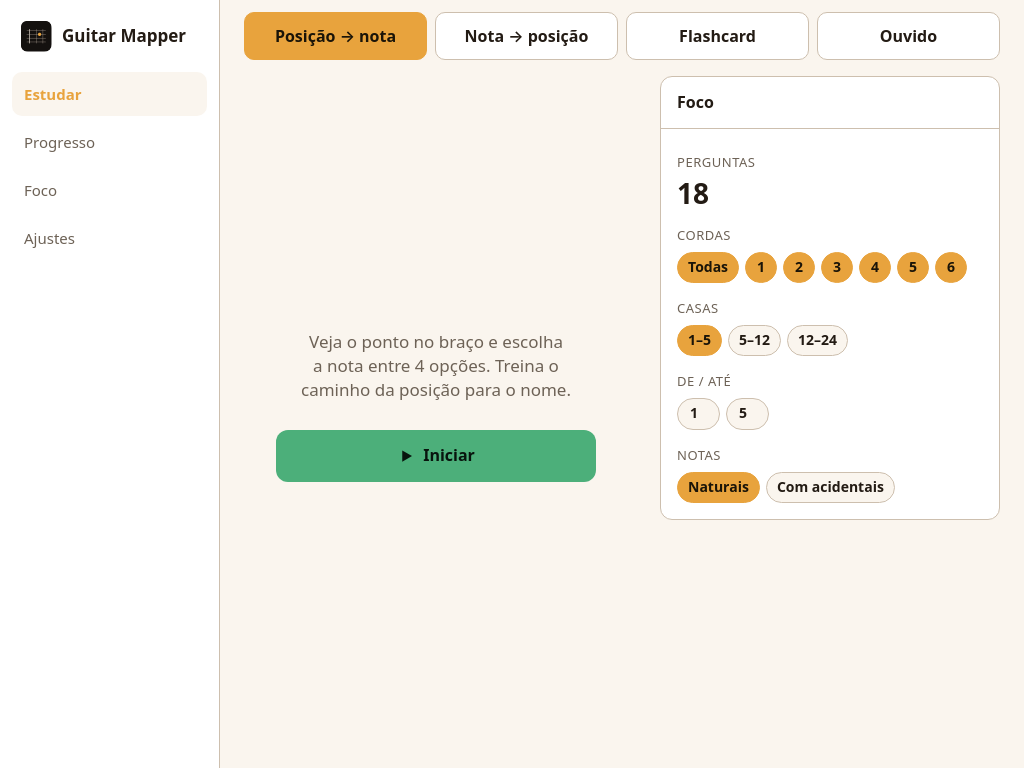
Scenario: App › warns after the first answer when writes fail
Check: the text "progresso não será salvo" is not shown
Click the button "Iniciar".
click(436, 456)  # box [276, 430, 596, 482]
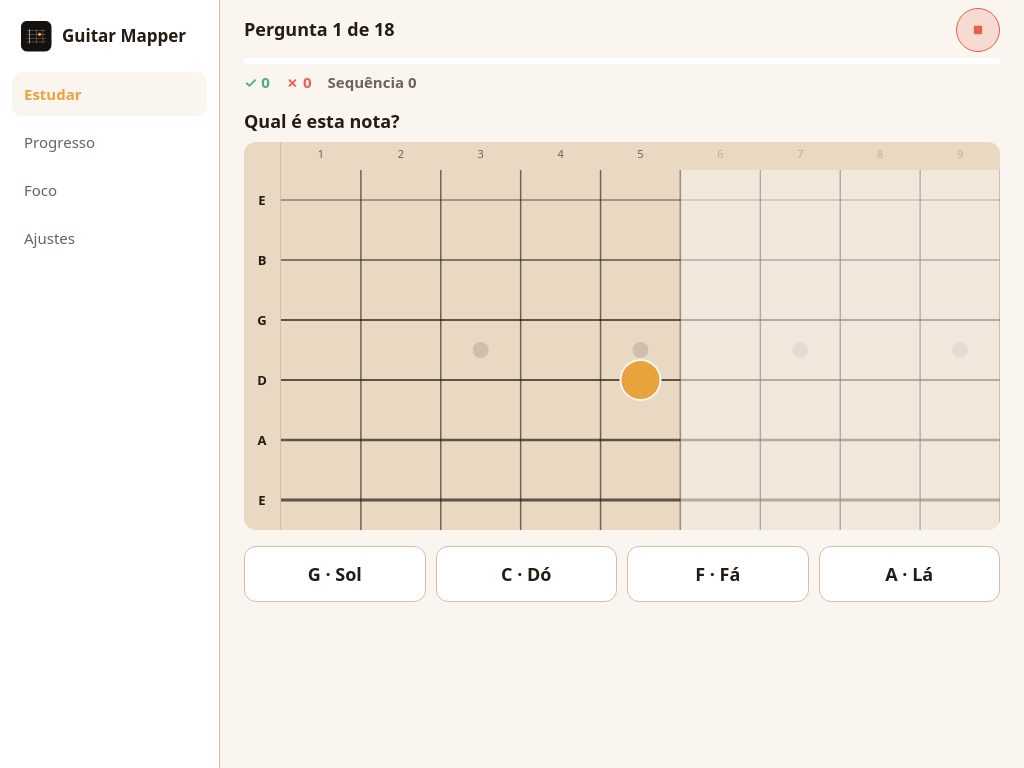
Click the button with class "option" showing "G · Sol".
click(335, 574)  # box [244, 546, 426, 602]
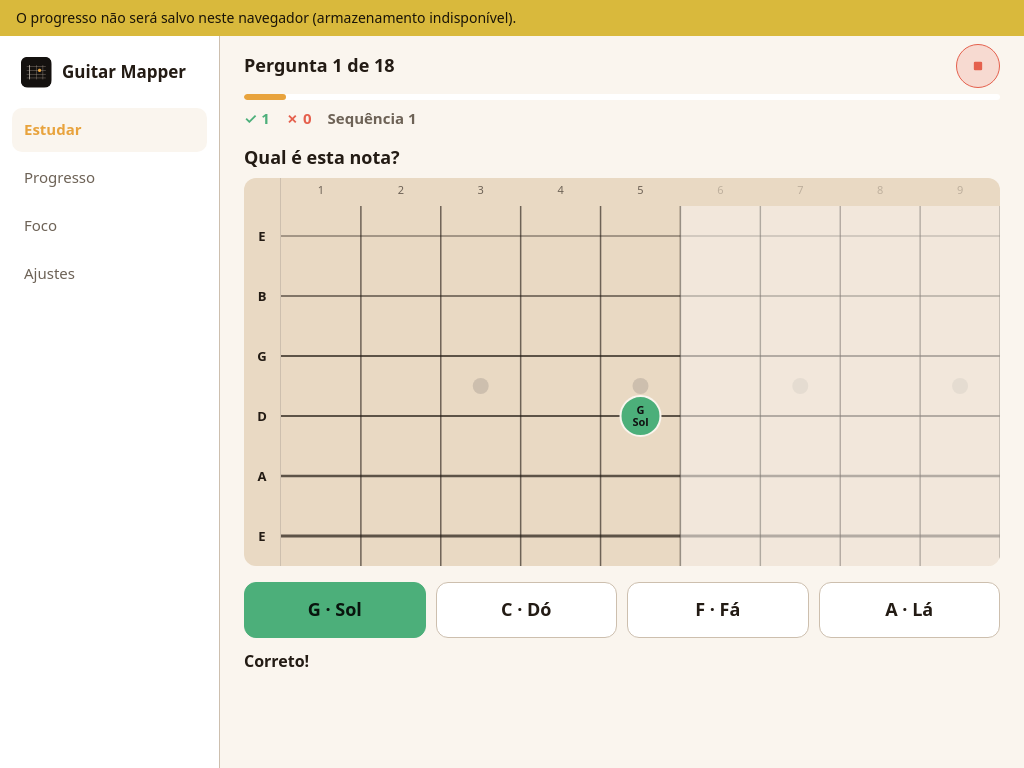
Check: the text "progresso não será salvo" is shown, box [16, 8, 516, 27]
